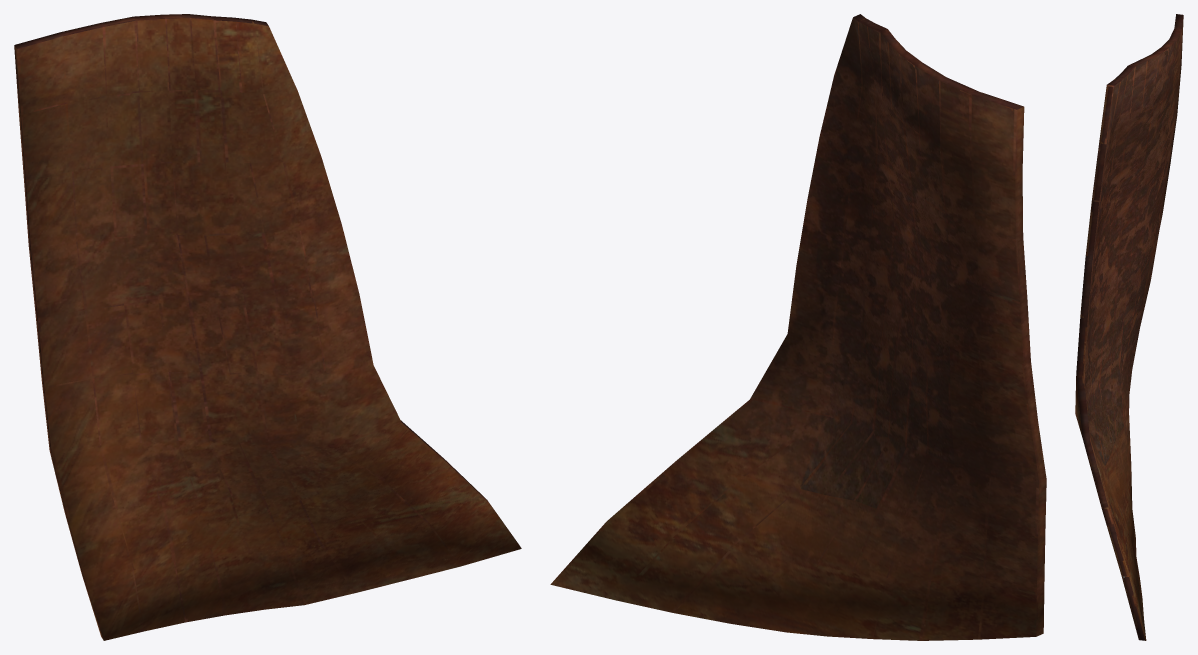
The model's file is MetallStück_1.fbx.
The picture shows the model from 3 angles, left to right: view 1: azimuth 30°, elevation 25°; view 2: azimuth 150°, elevation 25°; view 3: azimuth 270°, elevation 25°; orthographic projection. The views are drawn at different scales.
Visible parts, largest first — view 1: MetallSt_ck_1; view 2: MetallSt_ck_1; view 3: MetallSt_ck_1.
Part boxes in pixels (left/top/right/bottom): MetallSt_ck_1: left=14, top=14, right=521, bottom=640; MetallSt_ck_1: left=550, top=14, right=1046, bottom=640; MetallSt_ck_1: left=1075, top=14, right=1183, bottom=640.
Size of the model in its own units: 0.8176 by 0.9913 by 0.2116.
Materials: 1 (1 with a texture image).
